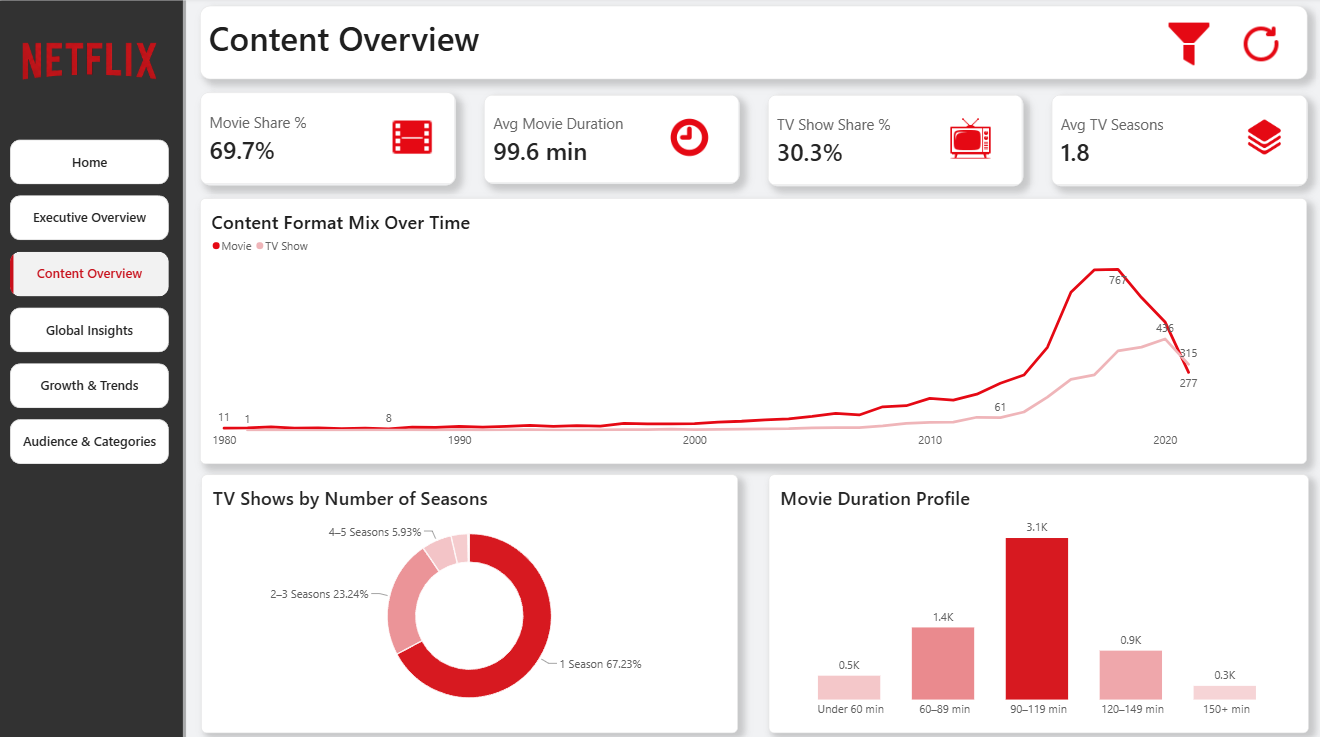

This screenshot's page, from the dashboard's own definition file:
{"tool":"powerbi","page":{"name":"Content Overview","canvas":[1920,1080],"ordinal":2},"visuals":[{"type":"cardVisual","fields":{"Data":["_Measures.Movie Share"]},"box":[296.1,137.7,370,134.8],"z":0,"group":"g2"},{"type":"cardVisual","fields":{"Data":["_Measures.Avg Movie Duration"]},"box":[707.4,140.3,370,129.9],"z":0,"group":"g3"},{"type":"cardVisual","fields":{"Data":["_Measures.TV Show Share"]},"box":[1118.6,140.3,370,132.5],"z":0,"group":"g4"},{"type":"cardVisual","fields":{"Data":["_Measures.Avg TV Show Seasons"]},"box":[1529.9,140.3,371.5,132.5],"z":0,"group":"g5"},{"type":"shape","box":[0,0,277,1080.2],"z":1000},{"type":"image","box":[957.1,162.5,96.1,81.2],"z":1000,"group":"g3"},{"type":"image","box":[1786.9,169,100.5,67.4],"z":1000,"group":"g5"},{"type":"image","box":[565.7,170.1,75.5,65.4],"z":1000,"group":"g2"},{"type":"image","box":[1367.4,175.2,91.5,58.2],"z":1000,"group":"g4"},{"type":"pageNavigator","box":[22.5,205.5,230,470.4],"z":1500},{"type":"image","box":[40.5,0,194,185.9],"z":1750},{"type":"textbox","box":[296.1,13,1603,106.5],"z":2000},{"type":"group","id":"g1","title":"Filter Controls","box":[1675.4,33.8,207.1,67.5],"z":2500},{"type":"image","box":[1781.9,33.8,100.6,67.5],"z":3000,"group":"g1"},{"type":"group","id":"g2","title":"Group 2","box":[296.1,137.7,370,134.8],"z":3000},{"type":"image","box":[1675.4,33.8,105.9,67.5],"z":4000,"group":"g1"},{"type":"group","id":"g3","title":"Group 3","box":[707.4,140.3,370,129.9],"z":4000},{"type":"group","id":"g4","title":"Group 4","box":[1118.6,140.3,370,132.5],"z":5000},{"type":"group","id":"g5","title":"Group 5","box":[1529.9,140.3,370,132.5],"z":6000},{"type":"lineChart","title":"Content Format Mix Over Time","fields":{"Category":["Shows.release_year"],"Series":["Shows.type"],"Y":["_Measures.Total Titles"]},"box":[296.1,290.9,1602.6,384.4],"z":7000},{"type":"clusteredColumnChart","title":"Movie Duration Profile","fields":{"Category":["Shows.Movie Duration Group"],"Y":["_Measures.Total Titles"]},"box":[1119.5,690.9,781.8,374],"z":8000},{"type":"donutChart","title":"TV Shows by Number of Seasons","fields":{"Category":["Shows.TV Seasons Group"],"Y":["_Measures.Total Titles"]},"box":[298.7,690.9,776.6,374],"z":9000}]}

Visuals, with their boxes in screenshot pixels (x1, y1, x2, y2), scaled from the page's 1920x1080 canvas onto the 1320x737 screenshot:
cardVisual - _Measures.Movie Share: bbox=(204, 94, 458, 186)
cardVisual - _Measures.Avg Movie Duration: bbox=(486, 96, 741, 184)
cardVisual - _Measures.TV Show Share: bbox=(769, 96, 1023, 186)
cardVisual - _Measures.Avg TV Show Seasons: bbox=(1052, 96, 1307, 186)
shape: bbox=(0, 0, 190, 736)
image: bbox=(658, 111, 724, 166)
image: bbox=(1228, 115, 1298, 161)
image: bbox=(389, 116, 441, 161)
image: bbox=(940, 120, 1003, 159)
pageNavigator: bbox=(15, 140, 174, 461)
image: bbox=(28, 0, 161, 127)
textbox: bbox=(204, 9, 1306, 82)
"Filter Controls" group: bbox=(1152, 23, 1294, 69)
image: bbox=(1225, 23, 1294, 69)
"Group 2" group: bbox=(204, 94, 458, 186)
image: bbox=(1152, 23, 1225, 69)
"Group 3" group: bbox=(486, 96, 741, 184)
"Group 4" group: bbox=(769, 96, 1023, 186)
"Group 5" group: bbox=(1052, 96, 1306, 186)
"Content Format Mix Over Time" lineChart: bbox=(204, 199, 1305, 461)
"Movie Duration Profile" clusteredColumnChart: bbox=(770, 471, 1307, 727)
"TV Shows by Number of Seasons" donutChart: bbox=(205, 471, 739, 727)
